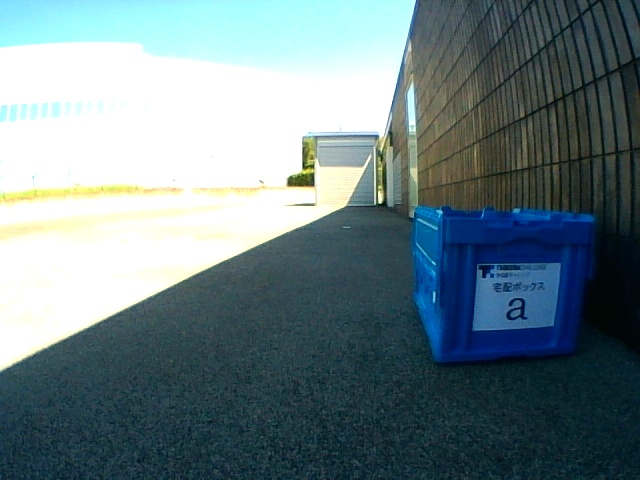blue_box: (413, 205, 594, 360)
tag_a: (483, 273, 549, 322)
